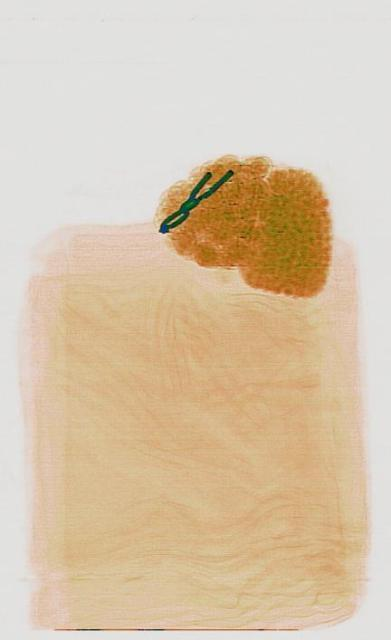Pliers: (155, 152, 230, 240)
